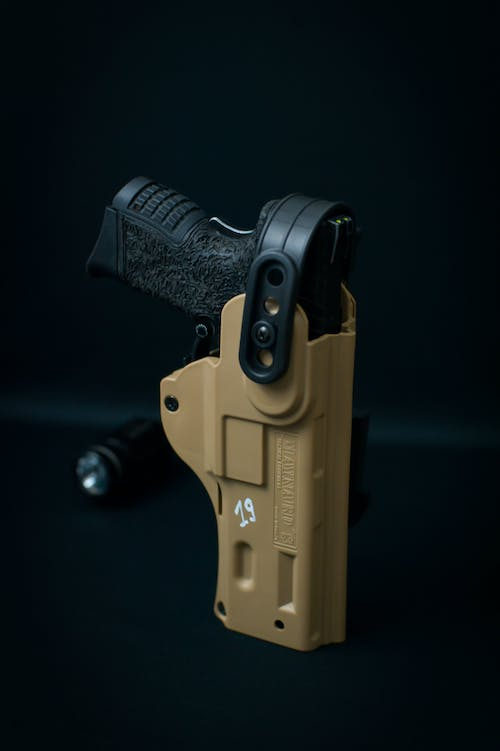gun: (75, 164, 357, 652)
